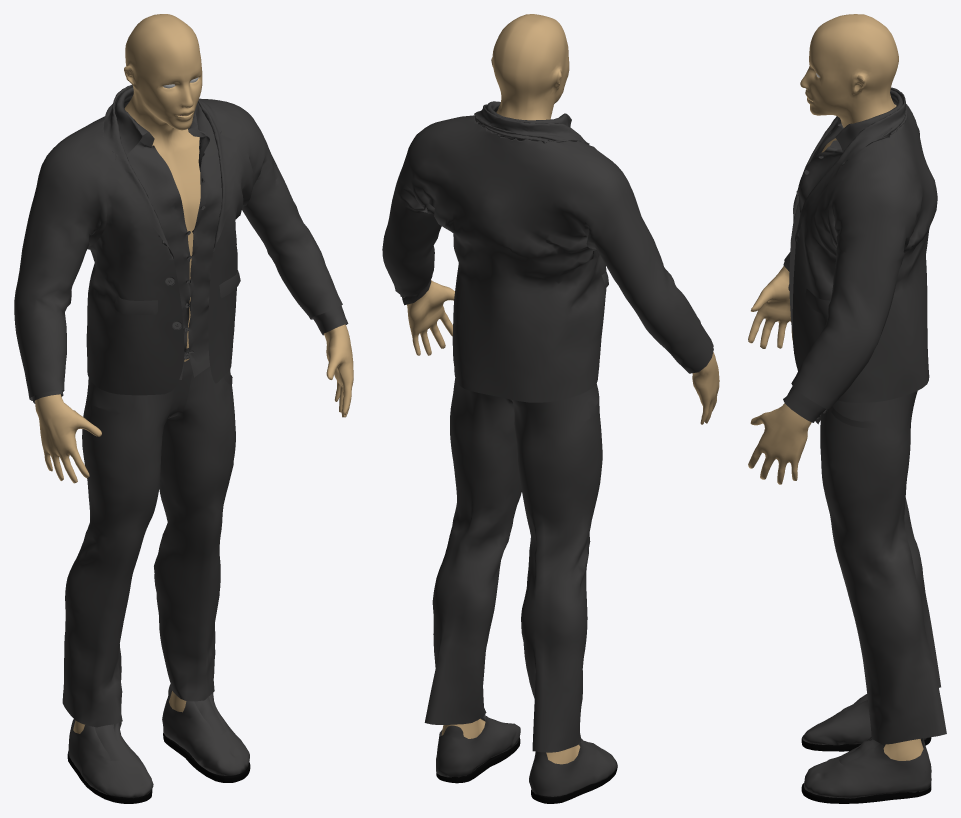
The model's file is narin low poly body.fbx.
3 views of the same model, side by side, from view 1: azimuth 30°, elevation 25°; view 2: azimuth 150°, elevation 25°; view 3: azimuth 270°, elevation 25° (orthographic).
Visible parts, largest first — view 1: narin_suit, narin_low_poly, polySurface2; view 2: narin_suit, narin_low_poly, polySurface2; view 3: narin_suit, narin_low_poly, polySurface2.
Boxes of the visible parts, x1=… form: narin_suit: x1=14, y1=84, x2=348, y2=797; narin_low_poly: x1=35, y1=14, x2=353, y2=733; polySurface2: x1=67, y1=733, x2=250, y2=803; narin_suit: x1=382, y1=101, x2=713, y2=796; narin_low_poly: x1=407, y1=14, x2=719, y2=764; polySurface2: x1=436, y1=737, x2=617, y2=803; narin_suit: x1=783, y1=87, x2=946, y2=798; narin_low_poly: x1=748, y1=14, x2=923, y2=760; polySurface2: x1=801, y1=735, x2=931, y2=803.
Bounding box in the file's own units: 7.26 × 16.82 × 4.03.
